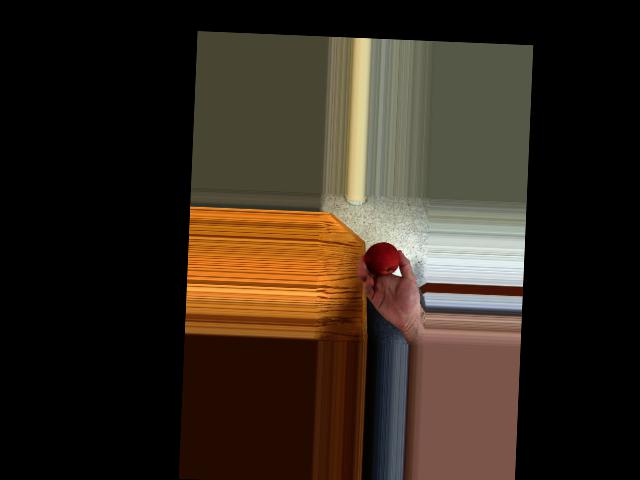apple: (363, 241, 404, 281)
